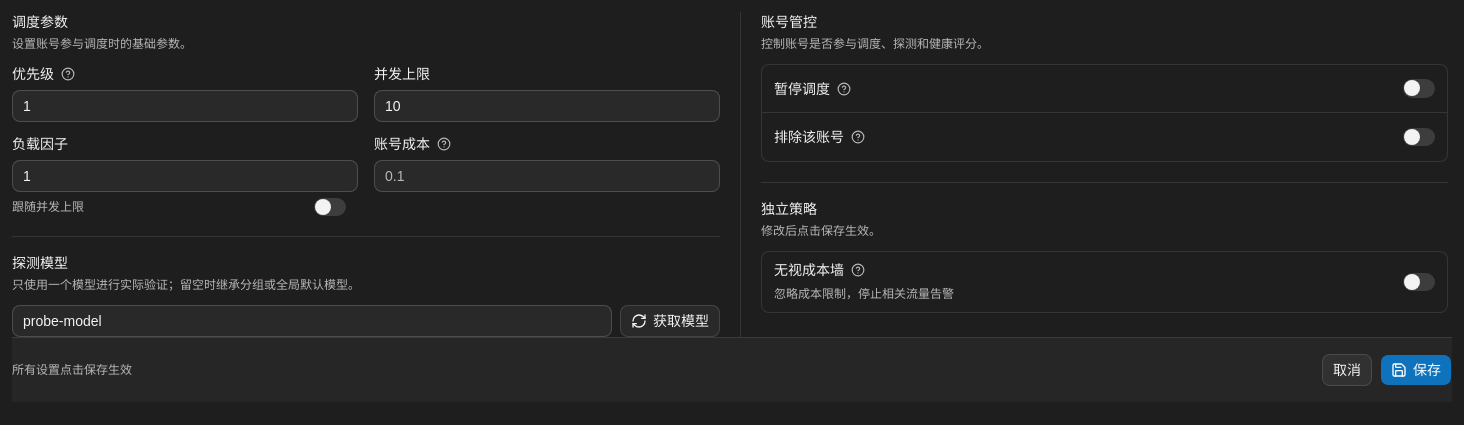
Test: 清空 优先级 后提交会关联错误并标记无效，修正后清除
Clear the number field named "优先级" at (185, 106), box [12,90,358,122]
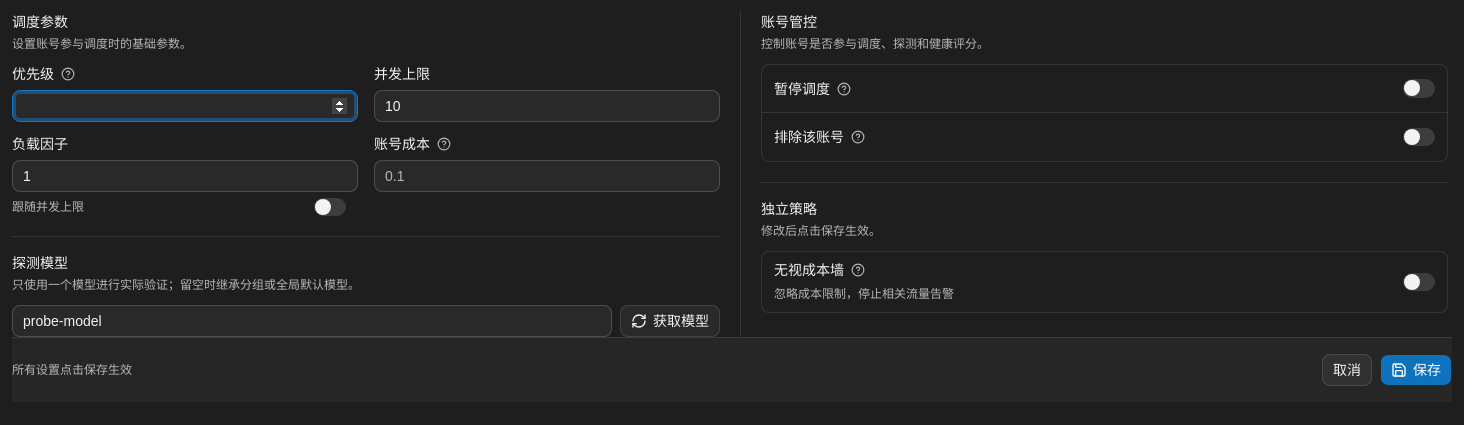
Click the button "保存" at (1416, 370), box [1380,354,1452,386]
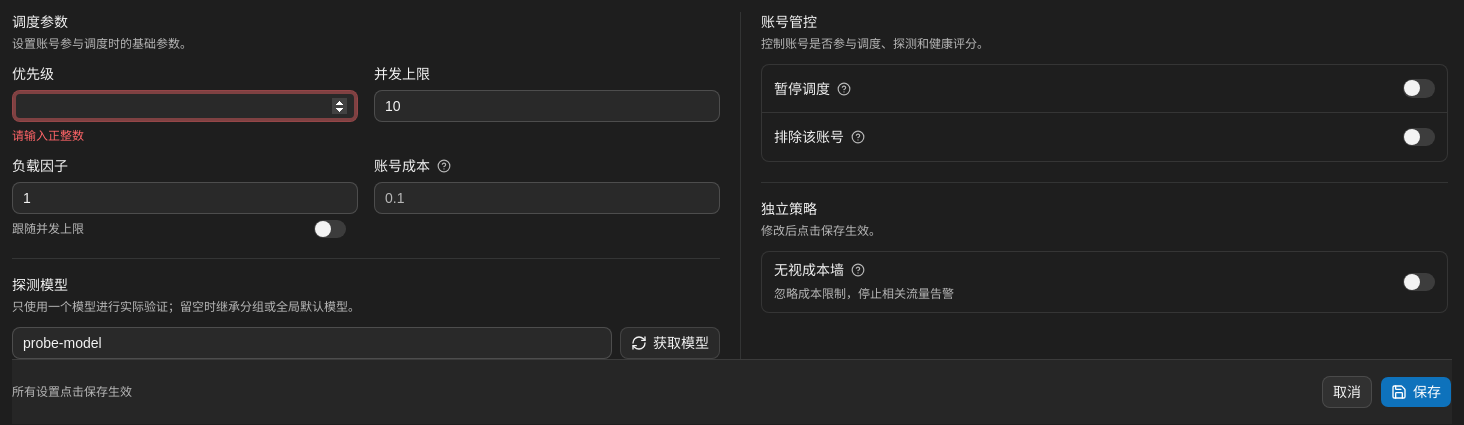
Expected: the text "请输入正整数" is shown, [12,129,84,143]
Type "2" into the number field named "优先级" at (185, 106), box [12,90,358,122]
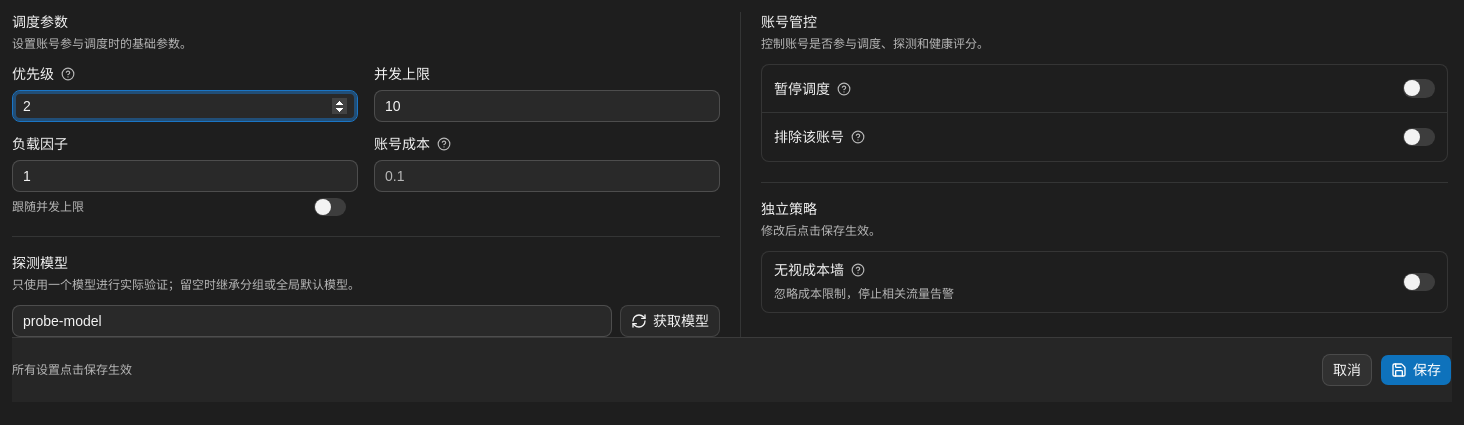
Expected: the text "请输入正整数" is gone
